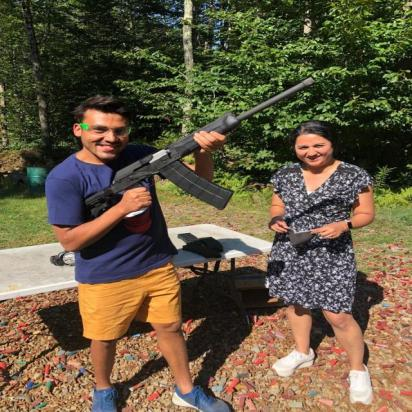Gun: (81, 76, 317, 224)
